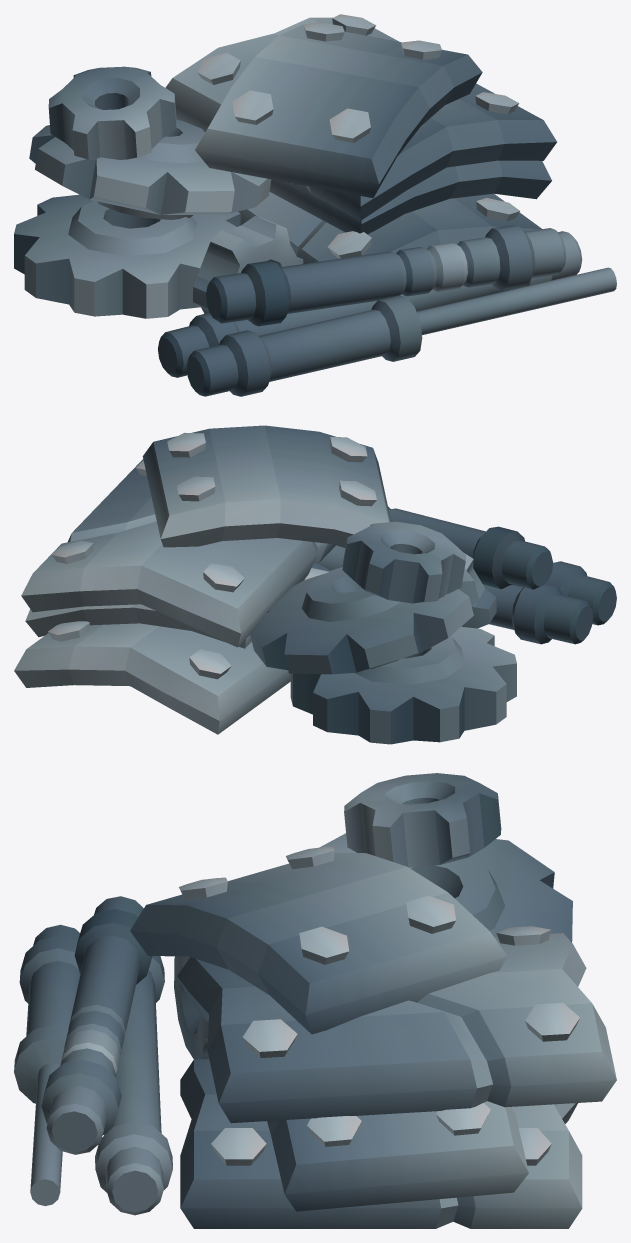
The model's file is Parts_Pile_Large.glb.
3 views of the same model, one above another, from view 1: azimuth 30°, elevation 25°; view 2: azimuth 150°, elevation 25°; view 3: azimuth 270°, elevation 25° (orthographic). The views are drawn at different scales.
Parts seen in each view (by area): view 1: Parts_Pile_Large; view 2: Parts_Pile_Large; view 3: Parts_Pile_Large.
Part boxes in pixels (x1=…): Parts_Pile_Large: x1=14, y1=14, x2=616, y2=396; Parts_Pile_Large: x1=14, y1=425, x2=616, y2=744; Parts_Pile_Large: x1=14, y1=773, x2=616, y2=1228.
Bounding box in the file's own units: 1.74 × 0.7247 × 1.57.
1 material, 1 textured.
